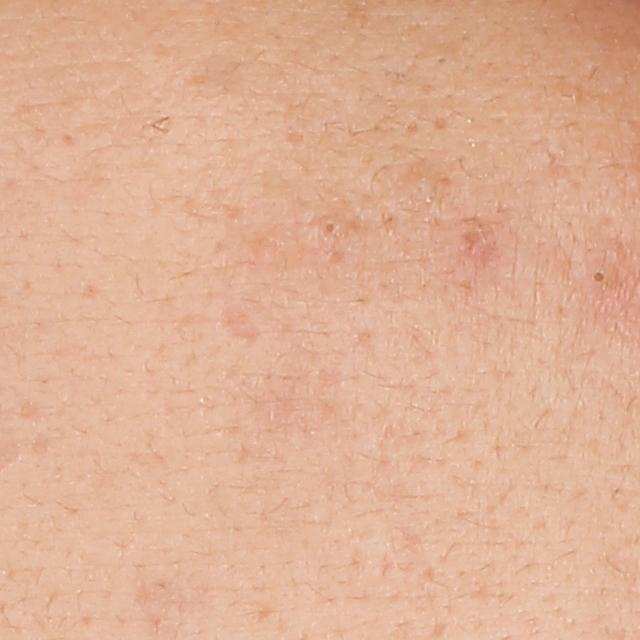atrophic_scar: (221, 296, 265, 350)
comedo: (404, 166, 448, 204), (311, 213, 345, 243), (426, 47, 454, 75), (585, 264, 613, 291)
